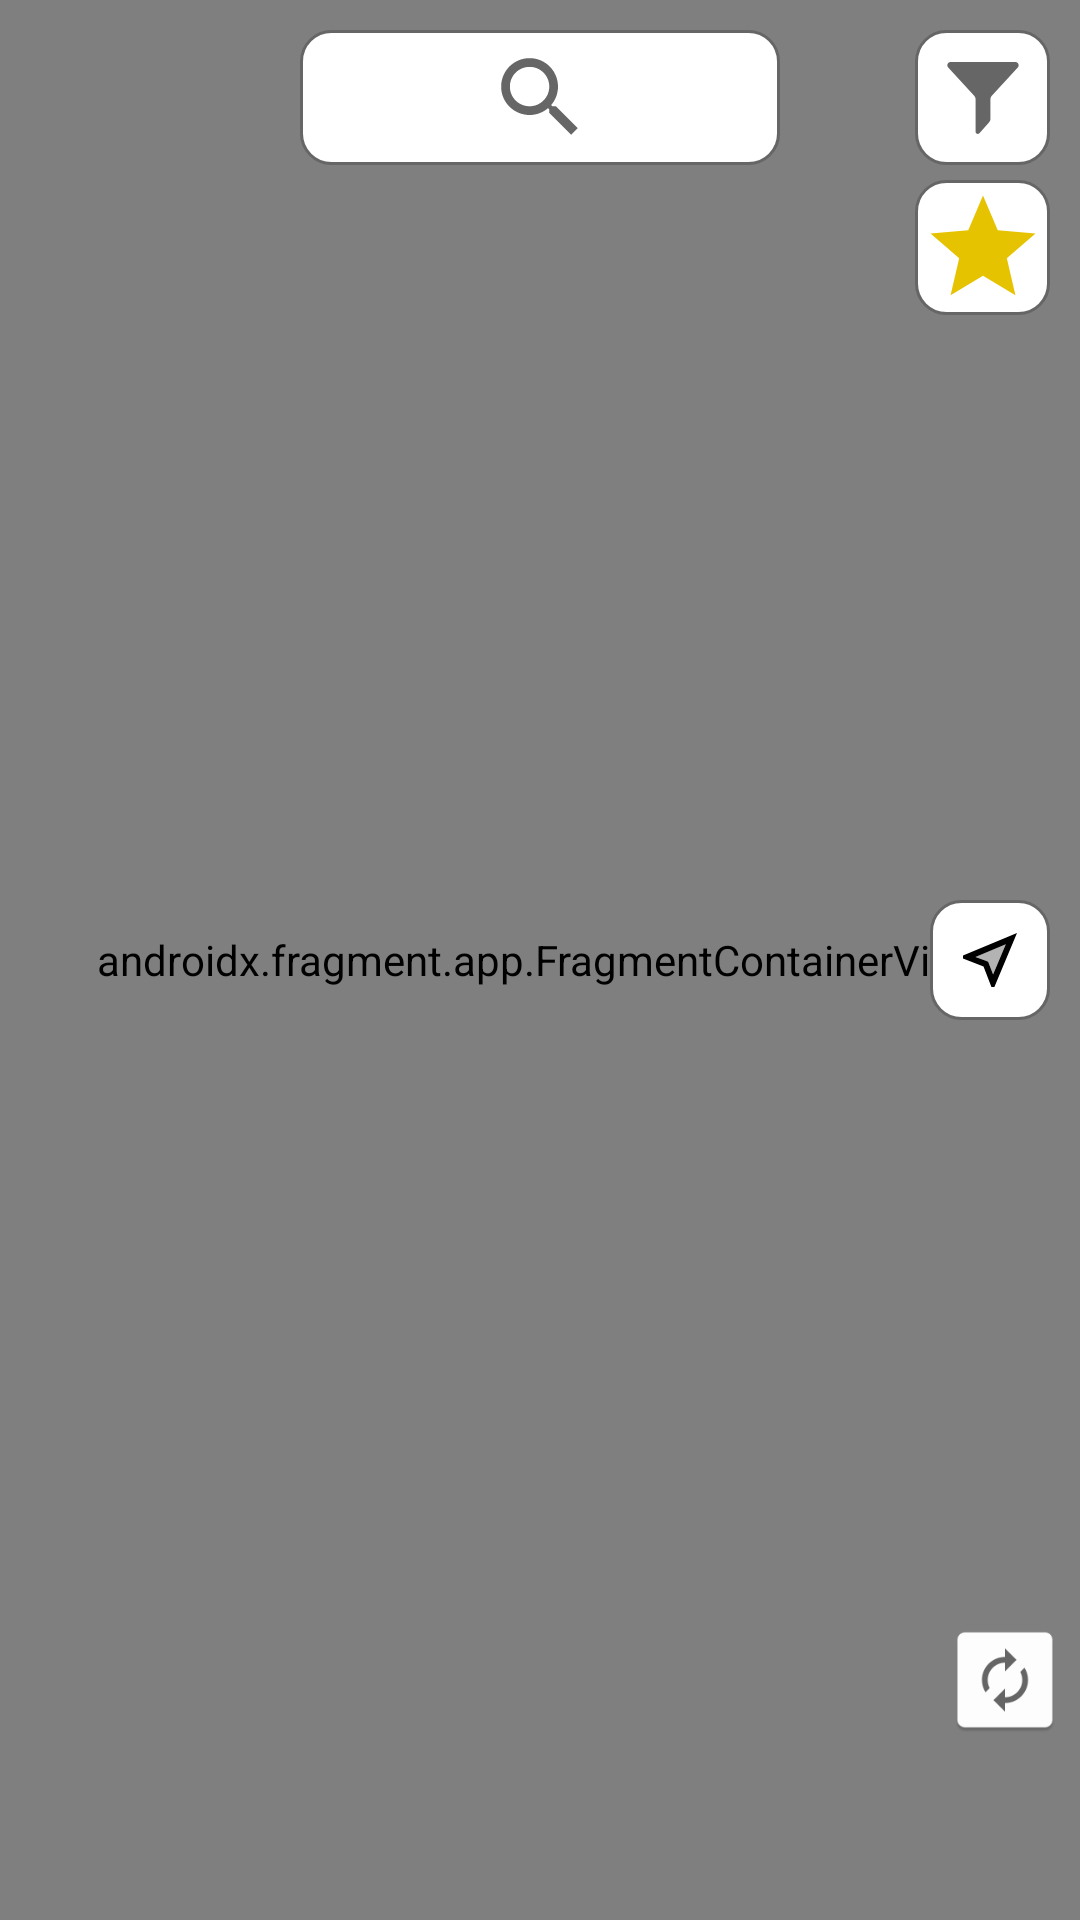

Where icons sit on this 1080×1920 app screen, as (x1, y1, x2, y2):
current location symbol: (930, 900, 1050, 1020)
favorite symbol: (915, 180, 1050, 315)
filter symbol: (915, 30, 1050, 165)
refresh symbol: (957, 1632, 1053, 1728)
